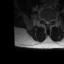CCS_normal: (46, 17, 48, 26)
LFS_normal: (50, 16, 53, 23)
LLS_normal: (48, 17, 50, 25)
RFS_normal: (43, 16, 45, 23)
RLS_normal: (45, 17, 47, 24)
